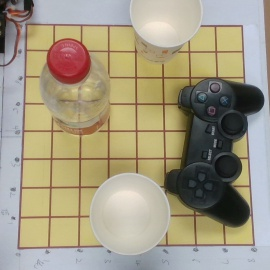bottle: (40, 38, 124, 162)
cup: (88, 171, 171, 255), (128, 1, 203, 73)
remote: (164, 77, 265, 229)
